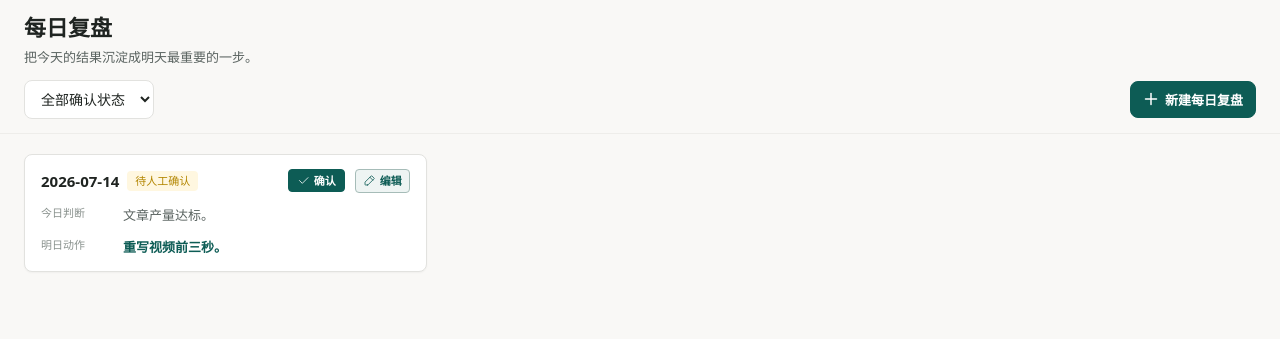
Test: 每日复盘工作台 › 迟到的每日复盘列表读取成功不会清除刚发生的保存错误
Click the button with aria-label "确认每日复盘：2026-07-14" at (316, 181), box top-left (288, 169), bottom-right (345, 192)
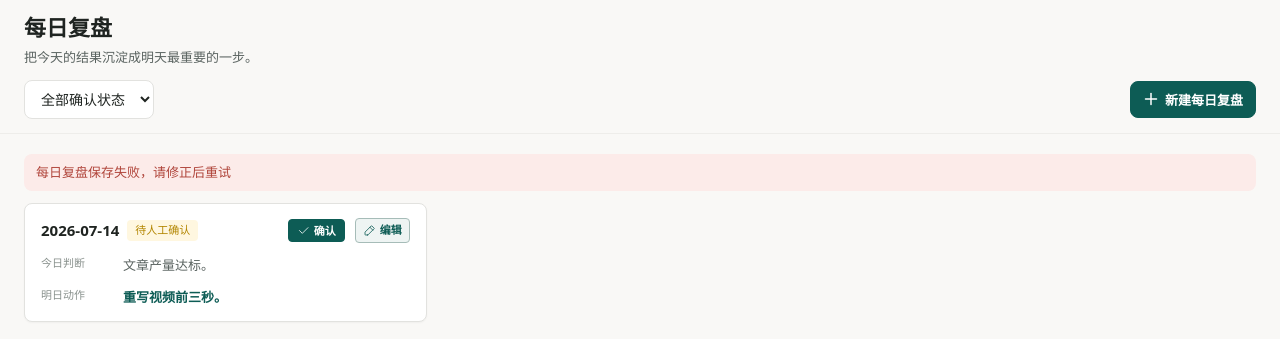
Expected: the message reads "每日复盘保存失败，请修正后重试", top-left (36, 162), bottom-right (231, 180)
